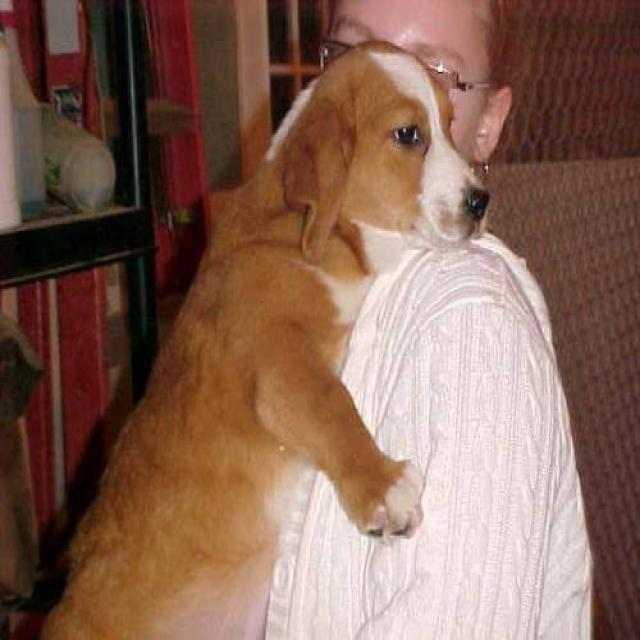dog: (36, 36, 491, 638)
